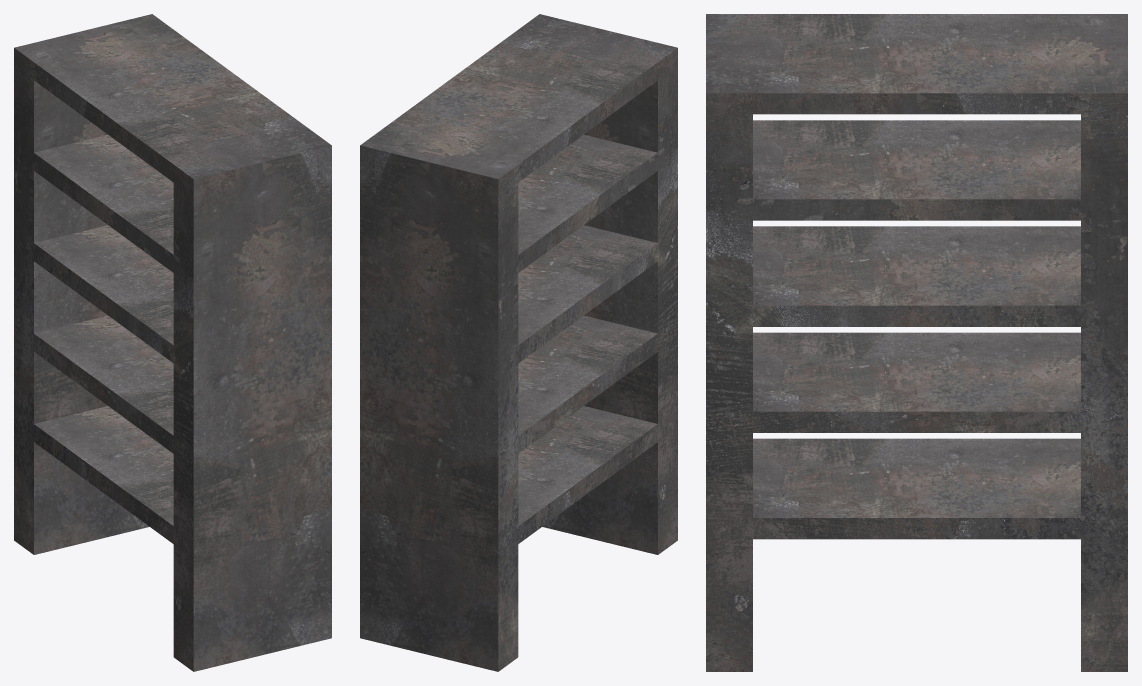
File: PolkaSlim .fbx
3 renders of one model, left to right at view 1: azimuth 30°, elevation 25°; view 2: azimuth 150°, elevation 25°; view 3: azimuth 270°, elevation 25°, orthographic. The views are drawn at different scales.
Parts seen in each view (by area): view 1: Cube; view 2: Cube; view 3: Cube.
Boxes of the visible parts, x1,y1,x2,y2 form: Cube: [14, 14, 331, 671]; Cube: [360, 14, 677, 671]; Cube: [706, 14, 1127, 671].
Bounding box in the file's own units: 400 × 1363 × 900.
1 material, 1 textured.
